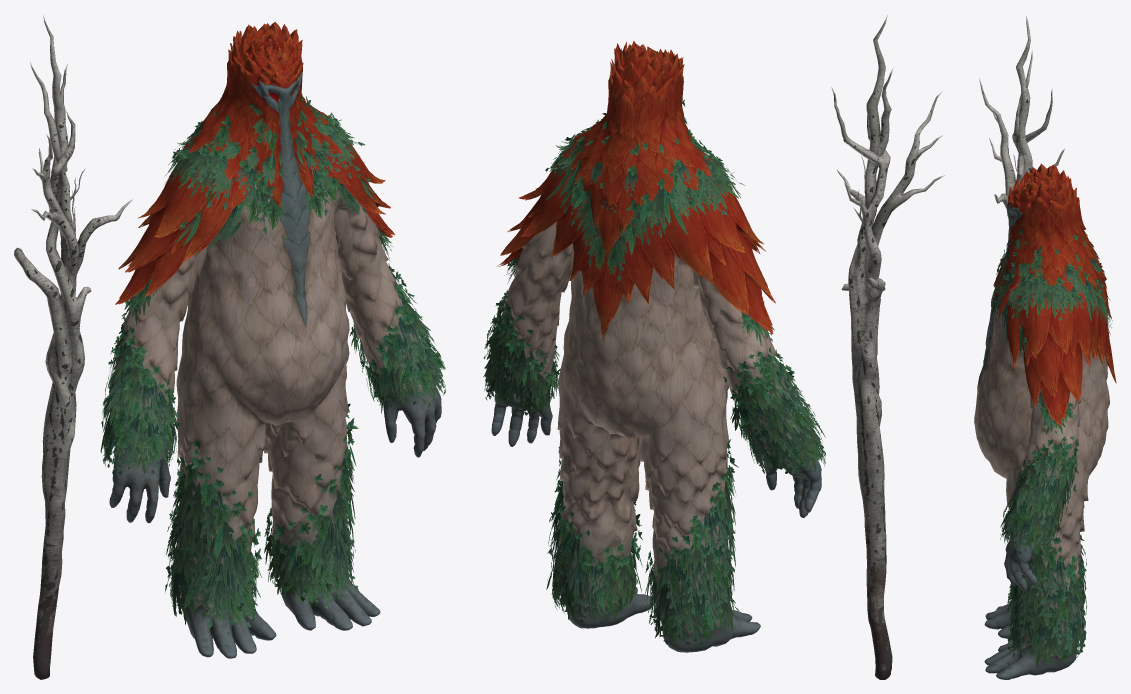
Rendered from pet-1065.glb.
3 renders of one model, left to right at view 1: azimuth 30°, elevation 25°; view 2: azimuth 150°, elevation 25°; view 3: azimuth 270°, elevation 25°, orthographic. The views are drawn at different scales.
Parts seen in each view (by area): view 1: VEH_VirotaWar_01; view 2: VEH_VirotaWar_01; view 3: VEH_VirotaWar_01.
Boxes of the visible parts, x1,y1,x2,y2 form: VEH_VirotaWar_01: (14,15,445,679); VEH_VirotaWar_01: (483,15,944,679); VEH_VirotaWar_01: (974,15,1116,679).
Size of the model in its own units: 1.49 by 2.16 by 0.5164.
1 material, 1 textured.
